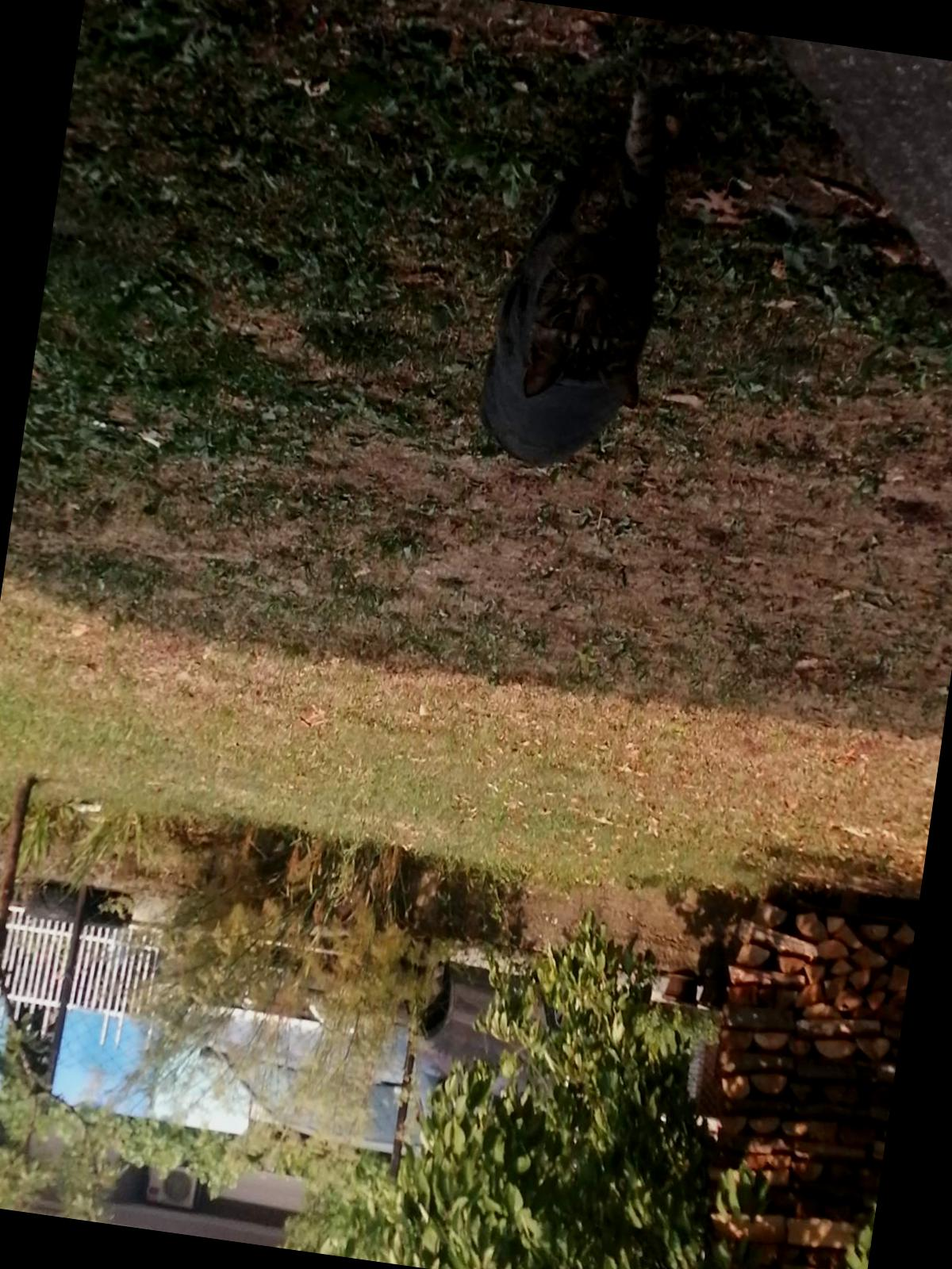macka: (471, 67, 689, 483)
